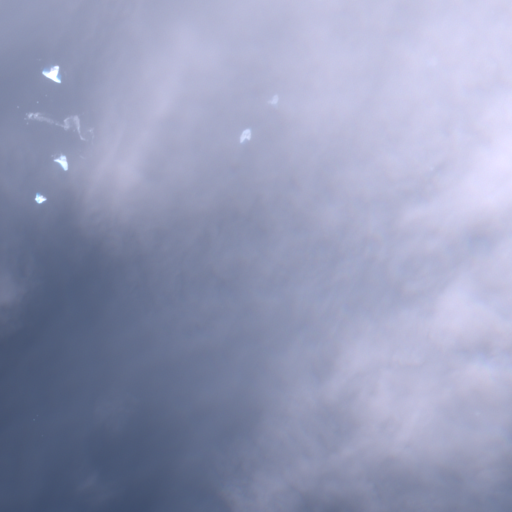Iceberg: (42, 65, 60, 82), (53, 156, 67, 170), (240, 129, 250, 142), (35, 194, 46, 203), (272, 95, 277, 103)
